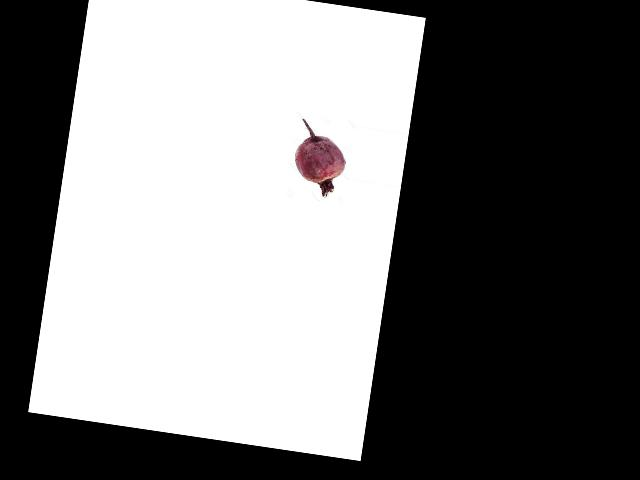beet: (289, 119, 350, 199)
